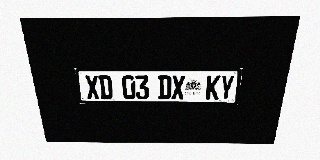0: (122, 75, 136, 99)
3: (135, 75, 149, 99)
D: (98, 75, 113, 99), (158, 75, 171, 99)
K: (205, 75, 221, 100)
X: (84, 75, 100, 99), (171, 75, 185, 100)
Y: (219, 75, 235, 100)
